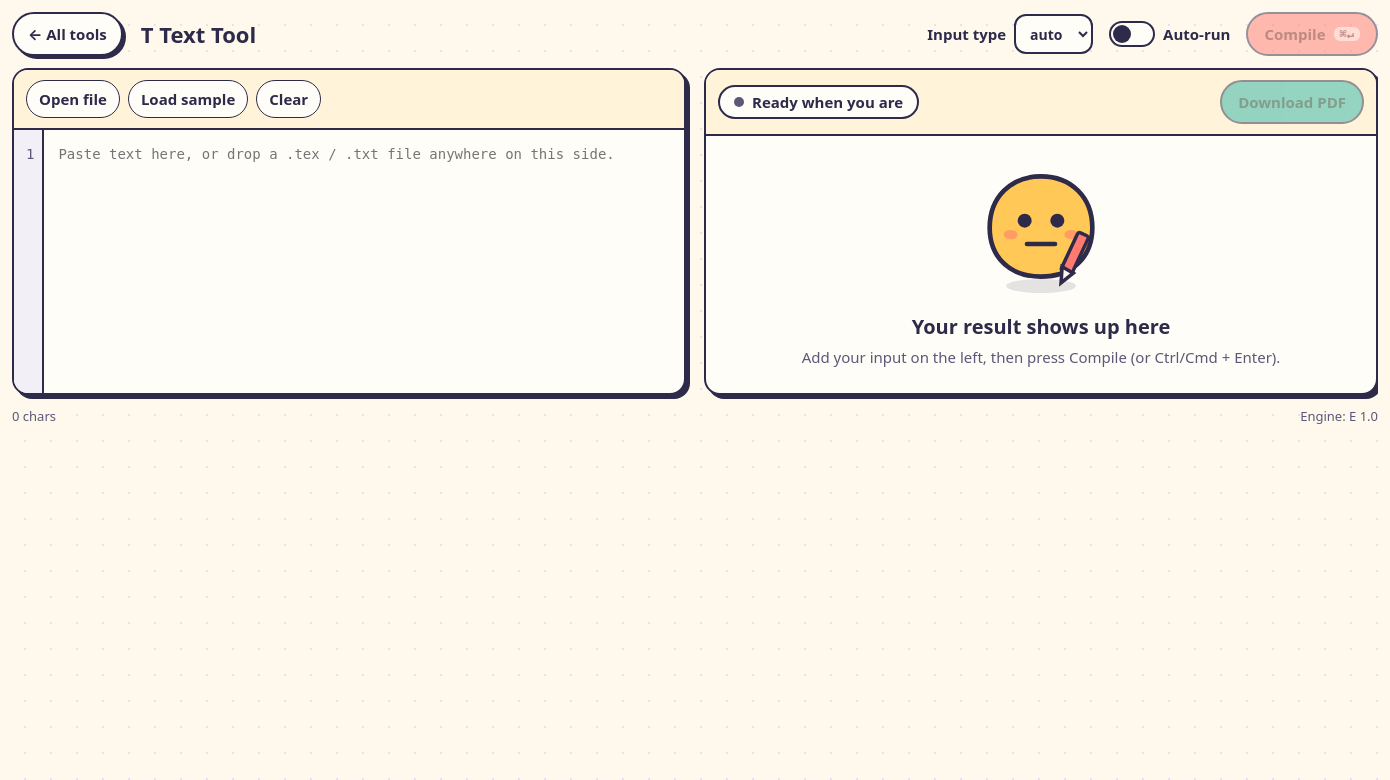
Test: running a text tool › explains network failures
Replace the text in the text box named "Input text" with "x" at coordinates (364, 261), box left=44, top=130, right=684, bottom=392
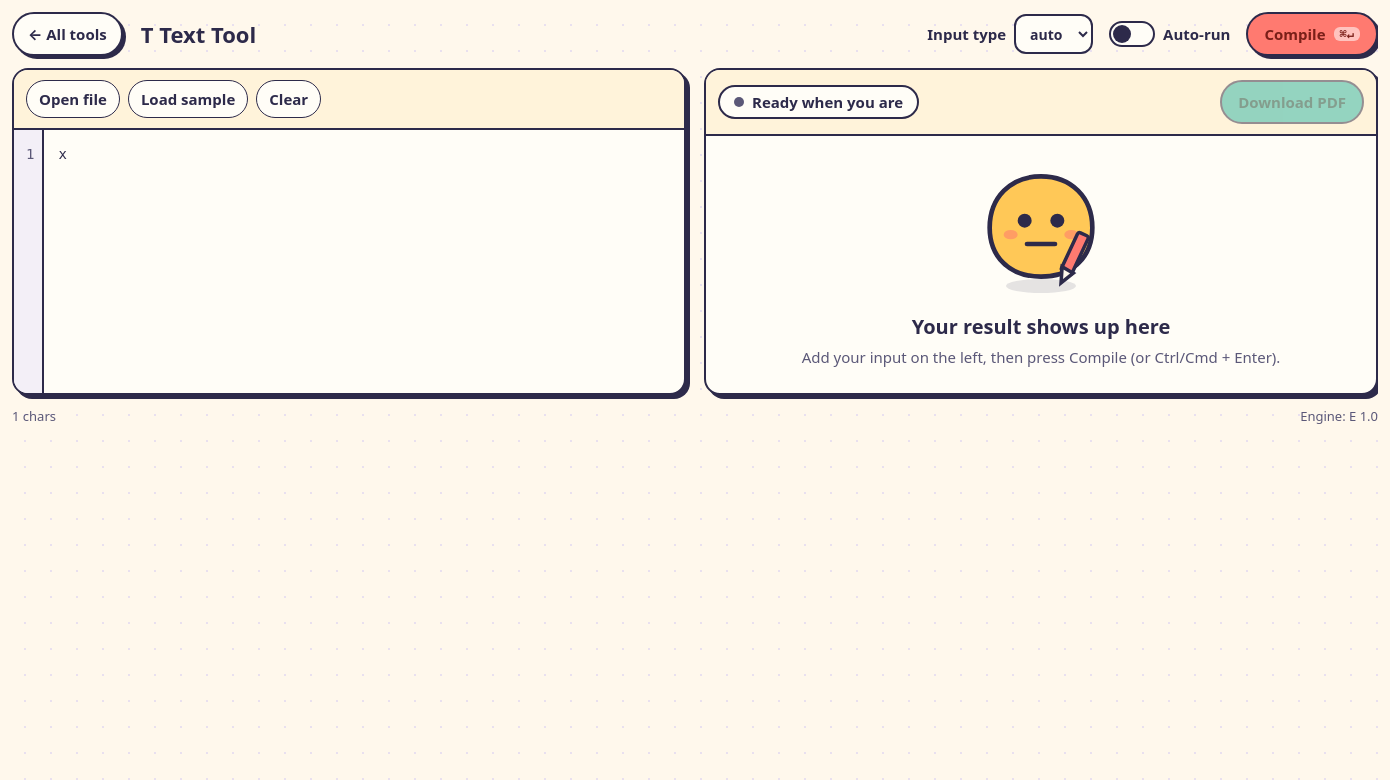
Click the button "Compile ⌘↵".
click(1312, 34)  # box left=1246, top=12, right=1378, bottom=56
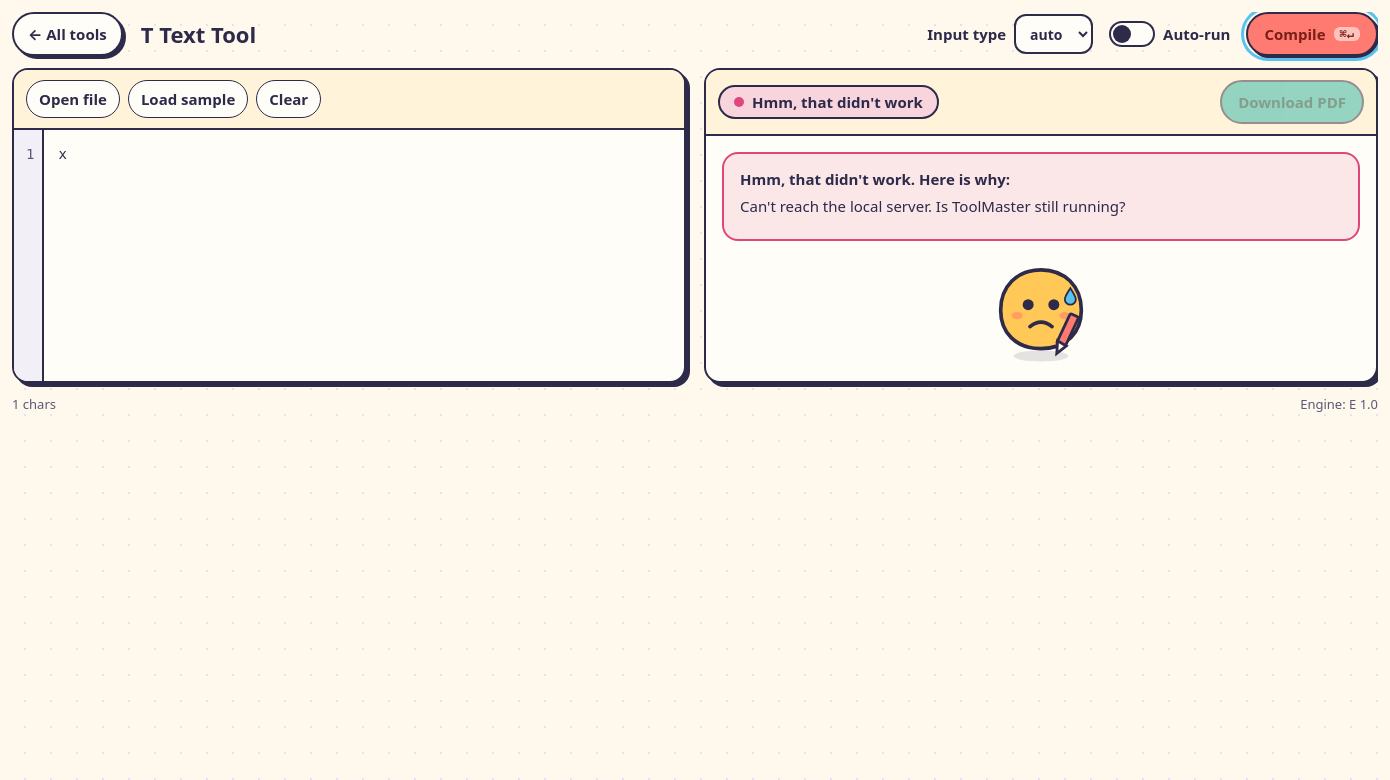
Check: the message that starts with "Hmm, that didn't work. Here is why:" shows "Can't reach", box left=740, top=196, right=1126, bottom=216
